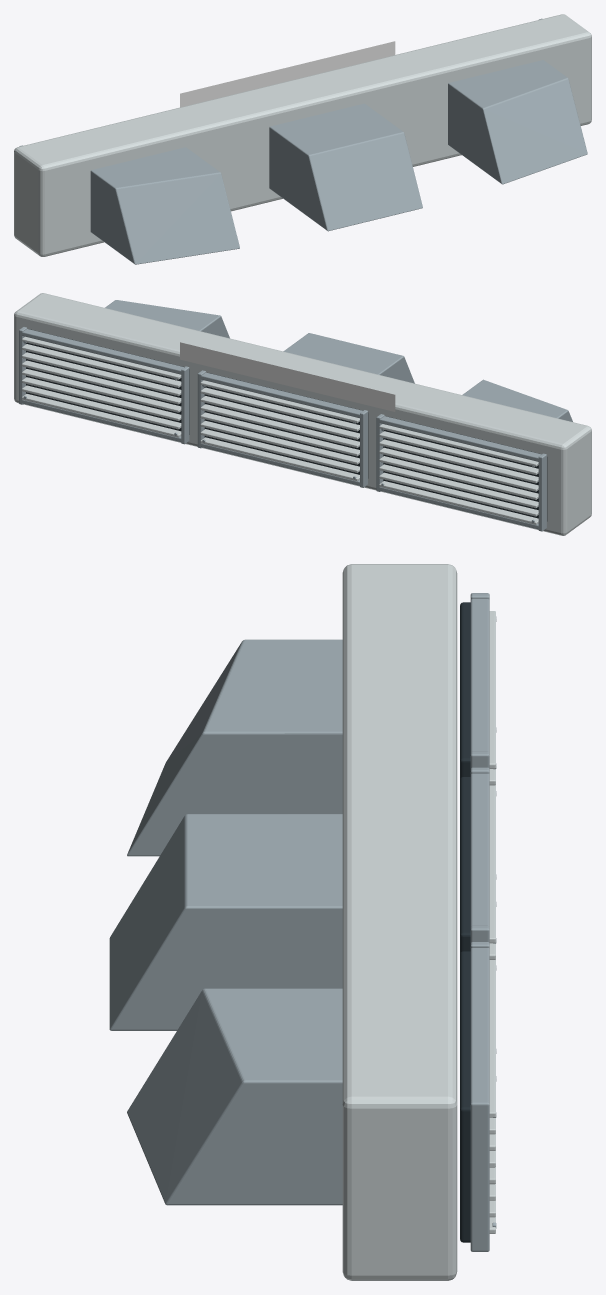
File: SR_NorthAirReturn.fbx
The picture shows the model from 3 angles, top to bottom: view 1: azimuth 30°, elevation 25°; view 2: azimuth 150°, elevation 25°; view 3: azimuth 270°, elevation 25°; orthographic projection. The views are drawn at different scales.
Parts seen in each view (by area): view 1: SR_NorthAirReturn; view 2: SR_NorthAirReturn; view 3: SR_NorthAirReturn.
Part boxes in pixels (x1=…): SR_NorthAirReturn: x1=14, y1=14, x2=591, y2=264; SR_NorthAirReturn: x1=14, y1=293, x2=591, y2=535; SR_NorthAirReturn: x1=109, y1=564, x2=496, y2=1280.
Bounding box in the file's own units: 334 × 59.5 × 101.
